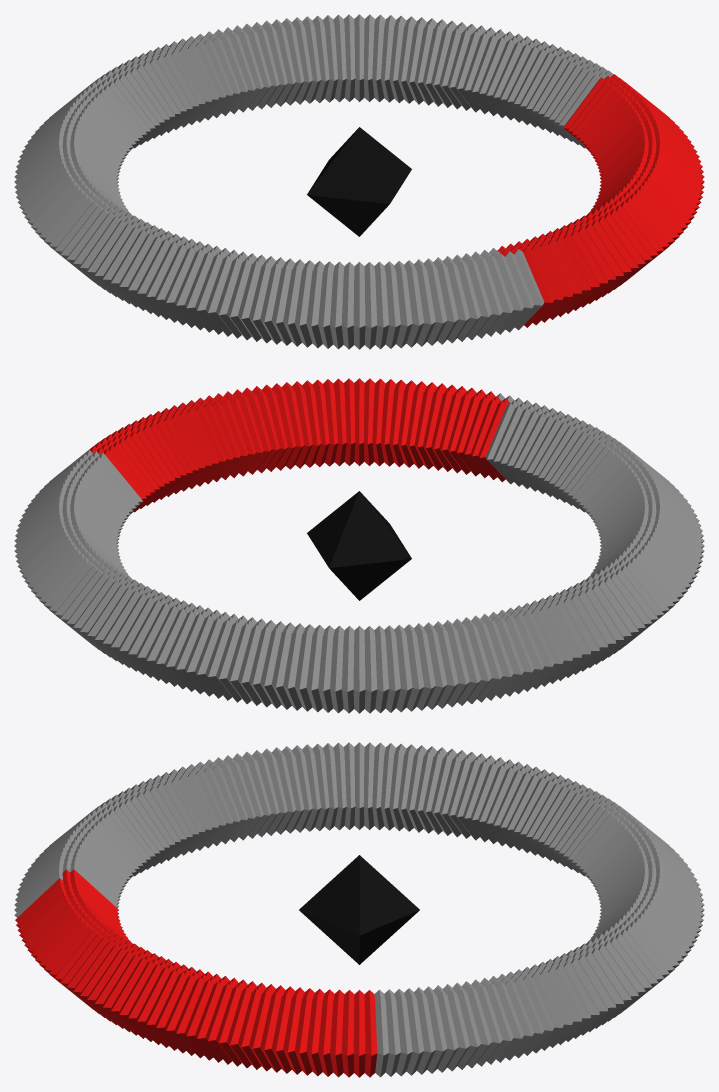
File: local_feasible_centers.obj
The picture shows the model from 3 angles, top to bottom: view 1: azimuth 30°, elevation 25°; view 2: azimuth 150°, elevation 25°; view 3: azimuth 270°, elevation 25°; orthographic projection.
Visible parts, largest first — view 1: rejected_candidates, feasible_candidates, target_point_000049; view 2: rejected_candidates, feasible_candidates, target_point_000049; view 3: rejected_candidates, feasible_candidates, target_point_000049.
Part boxes in pixels (bbox=[...]): rejected_candidates: bbox=[14, 14, 613, 349]; feasible_candidates: bbox=[497, 74, 704, 329]; target_point_000049: bbox=[307, 127, 411, 236]; rejected_candidates: bbox=[14, 393, 704, 713]; feasible_candidates: bbox=[54, 378, 509, 513]; target_point_000049: bbox=[307, 491, 411, 600]; rejected_candidates: bbox=[14, 742, 704, 1077]; feasible_candidates: bbox=[15, 869, 377, 1077]; target_point_000049: bbox=[299, 855, 419, 964].
Size of the model in its own units: 0.023 by 0.00405 by 0.023.
